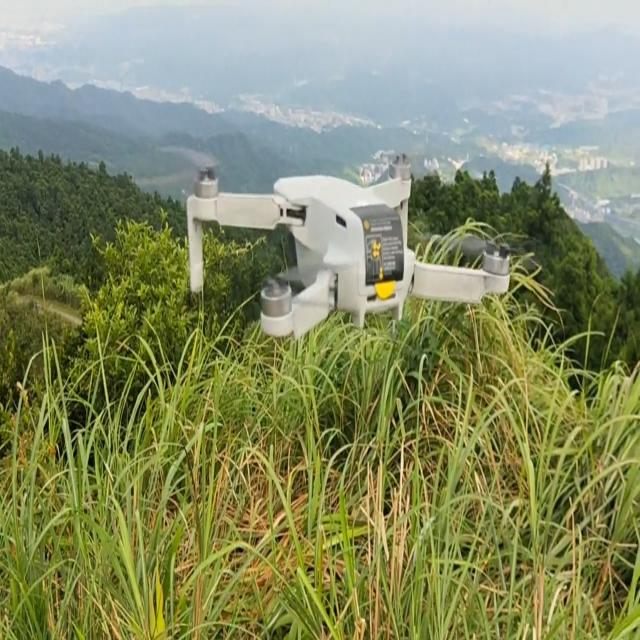Drone: (159, 167, 503, 357)
